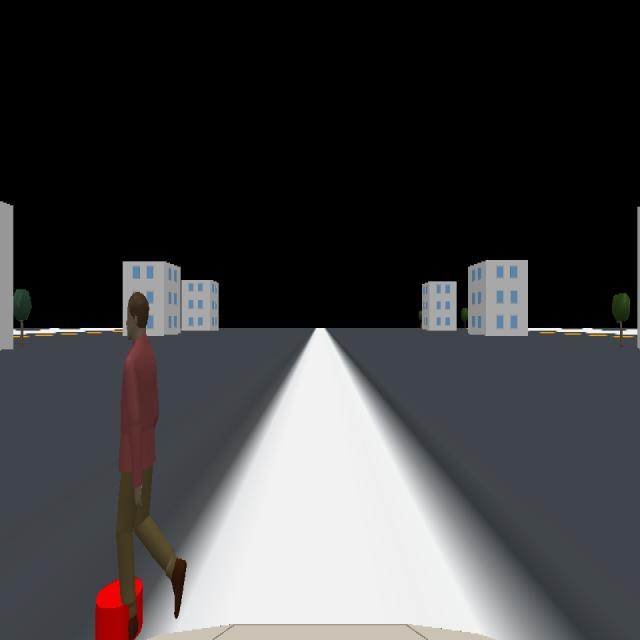human: (115, 291, 187, 638)
